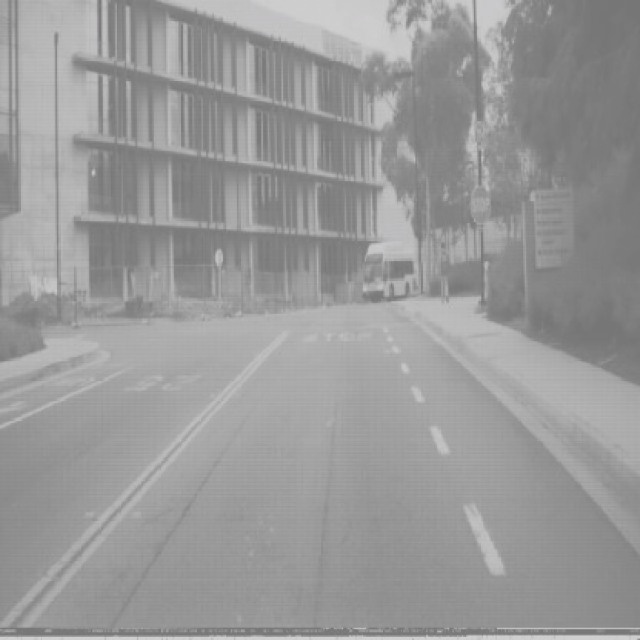stop: (470, 184, 490, 226)
